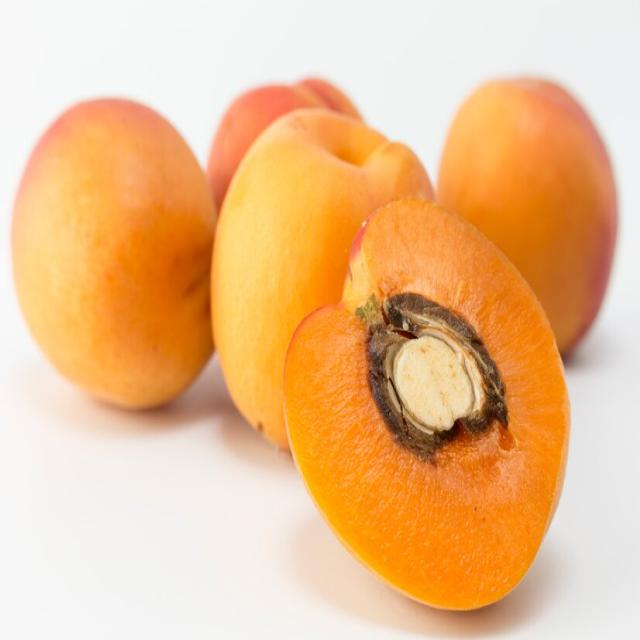kayisi: (20, 57, 280, 431), (442, 62, 640, 251)
kayisi-cekirdegi: (350, 288, 530, 486)
